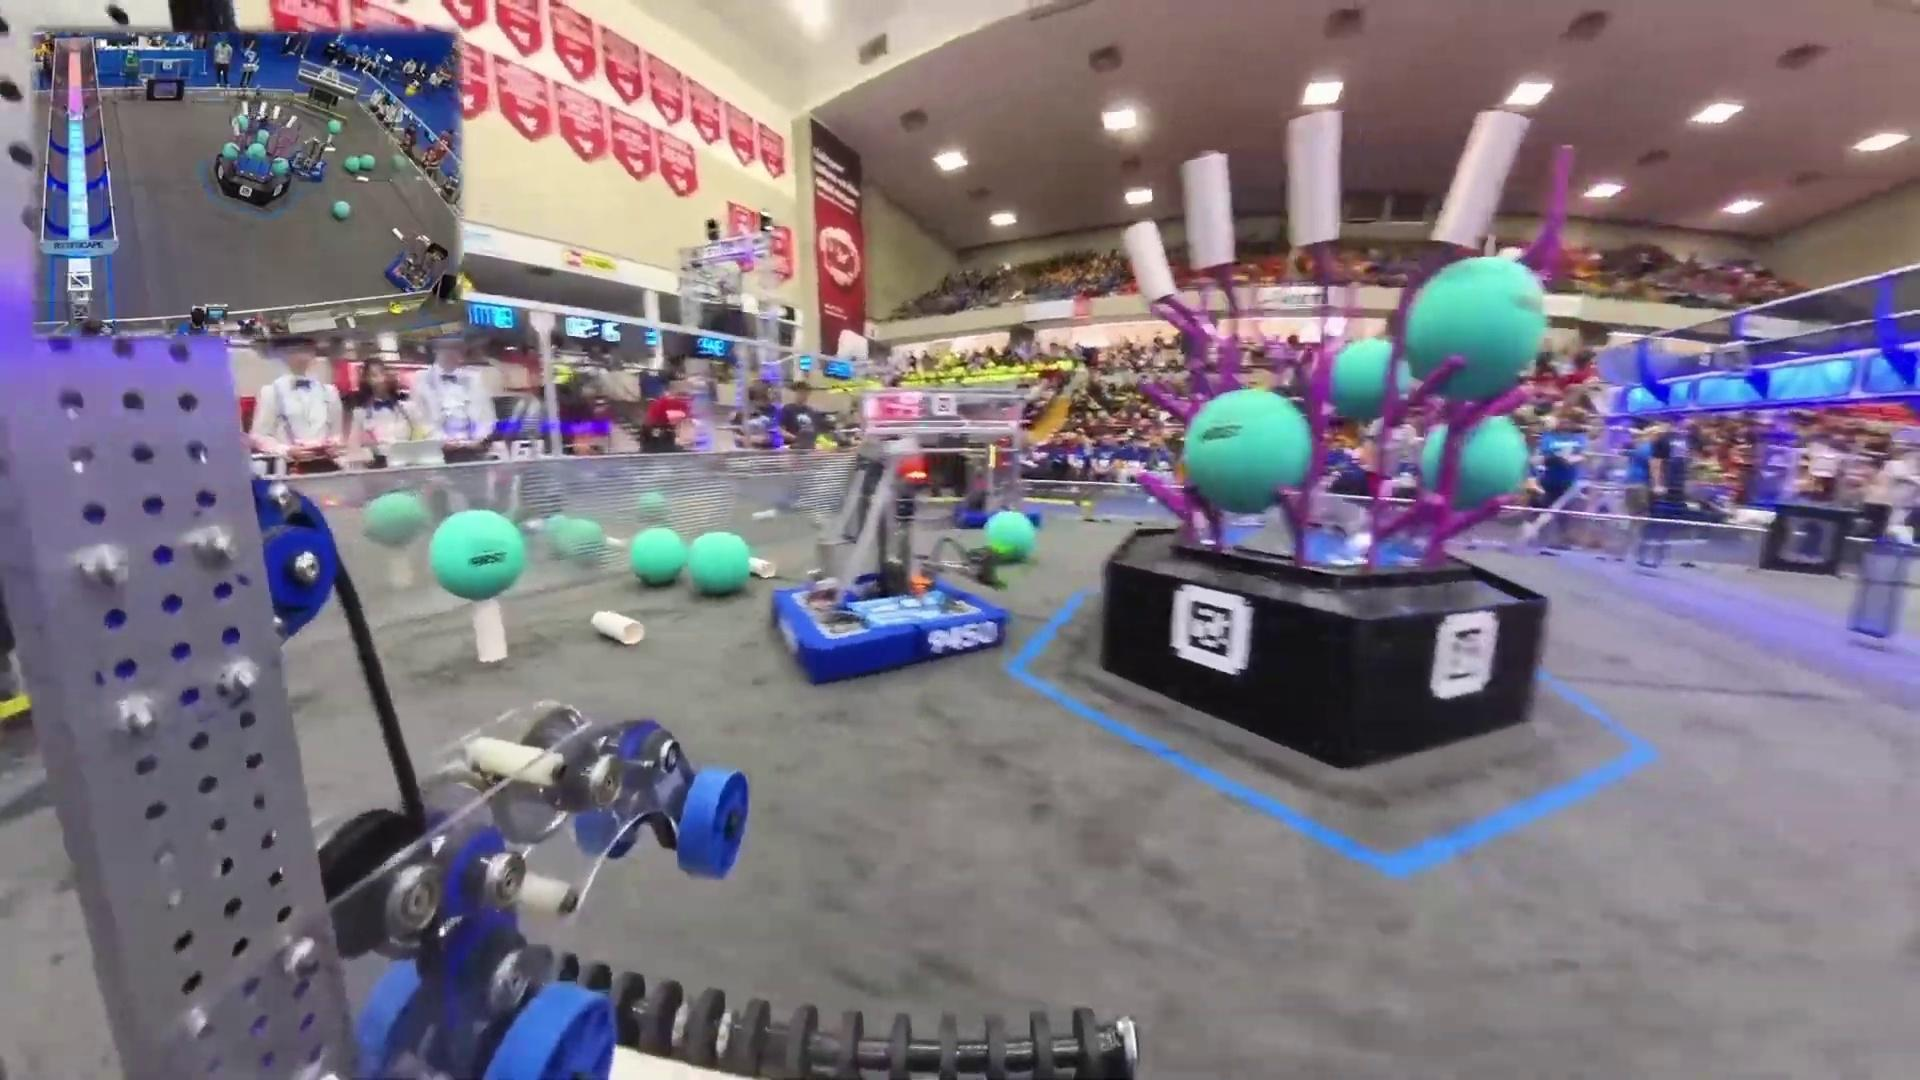robot: (770, 439, 1009, 688), (949, 446, 1040, 529), (385, 225, 455, 293), (291, 136, 327, 185)
